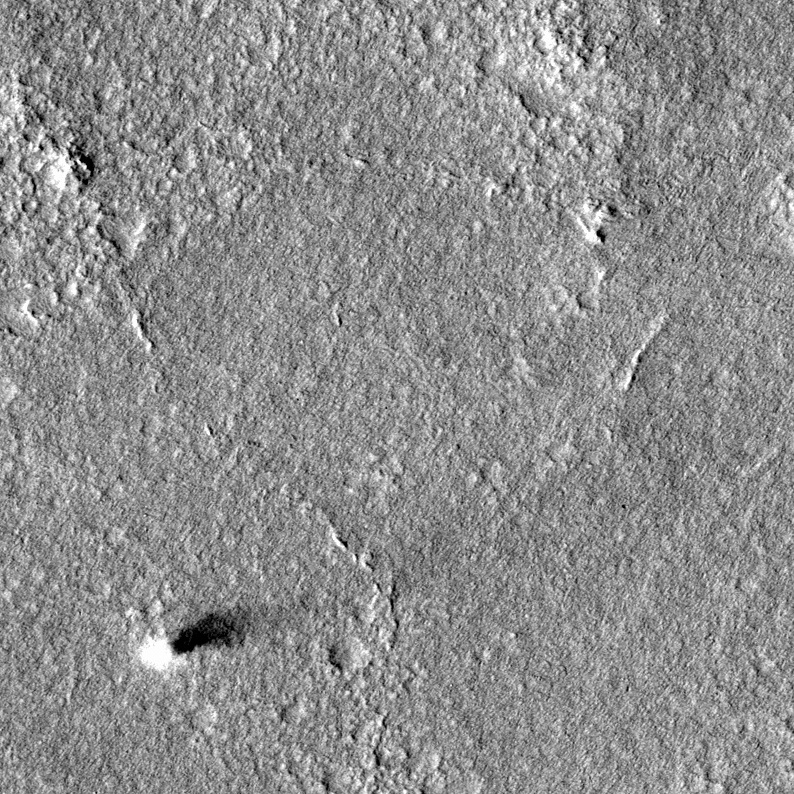dust_devil: (133, 602, 249, 674)
